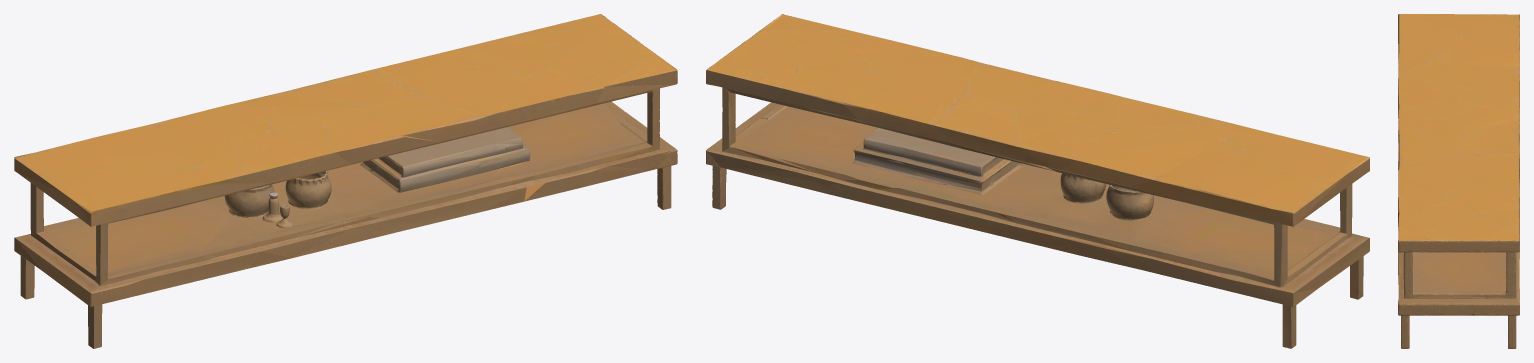
The model's file is glasses_yellow_prop.glb.
3 views of the same model, side by side, from view 1: azimuth 30°, elevation 25°; view 2: azimuth 150°, elevation 25°; view 3: azimuth 270°, elevation 25° (orthographic). The views are drawn at different scales.
Parts seen in each view (by area): view 1: mesh_node; view 2: mesh_node; view 3: mesh_node.
Boxes of the visible parts, bbox=[...] form: mesh_node: bbox=[14, 14, 677, 348]; mesh_node: bbox=[706, 14, 1369, 348]; mesh_node: bbox=[1398, 14, 1519, 348].
Bounding box in the file's own units: 1.9 × 0.4305 × 0.4319.
1 material, 1 textured.
